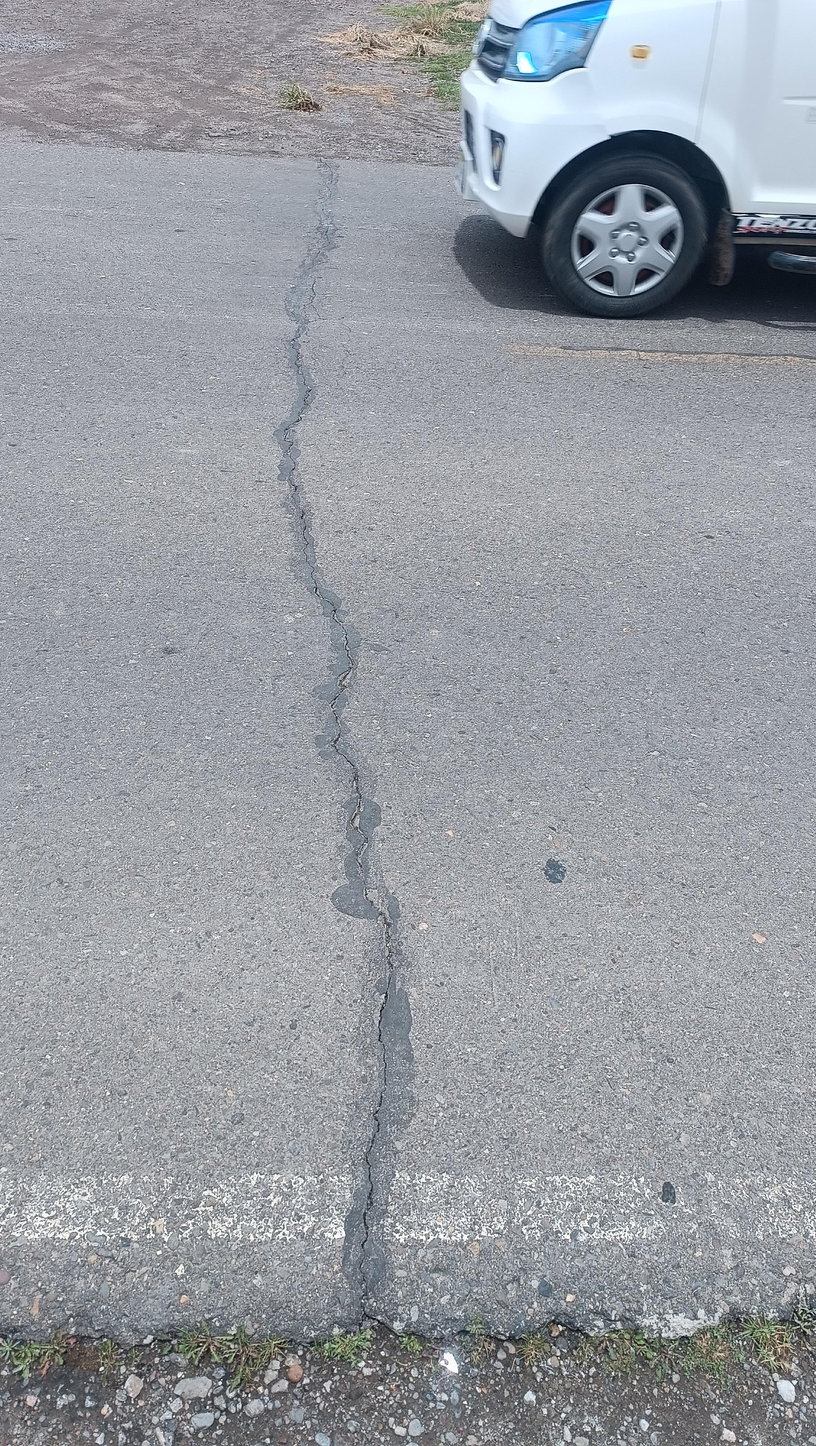GRIETA: (283, 343, 369, 876), (358, 878, 393, 1313), (292, 319, 319, 343), (320, 205, 331, 249), (320, 158, 333, 186), (306, 278, 316, 306)
